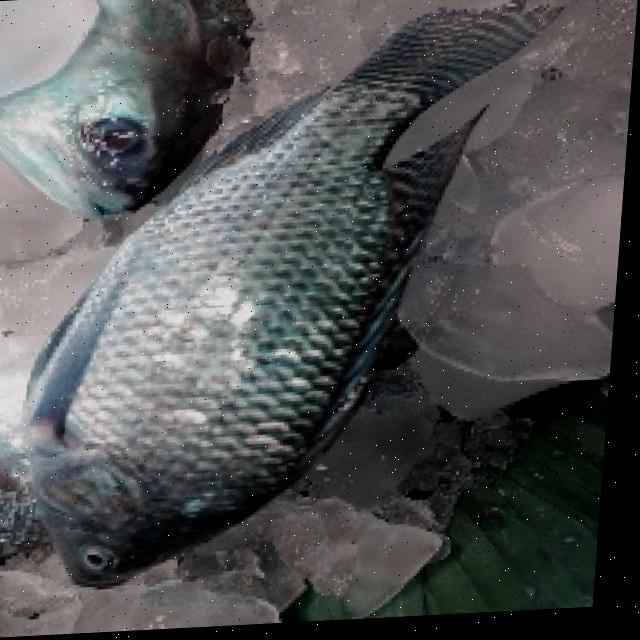Fresh: (42, 233, 327, 595)
